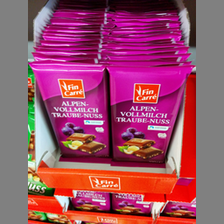chocolate: (32, 60, 112, 164), (108, 63, 181, 167)
